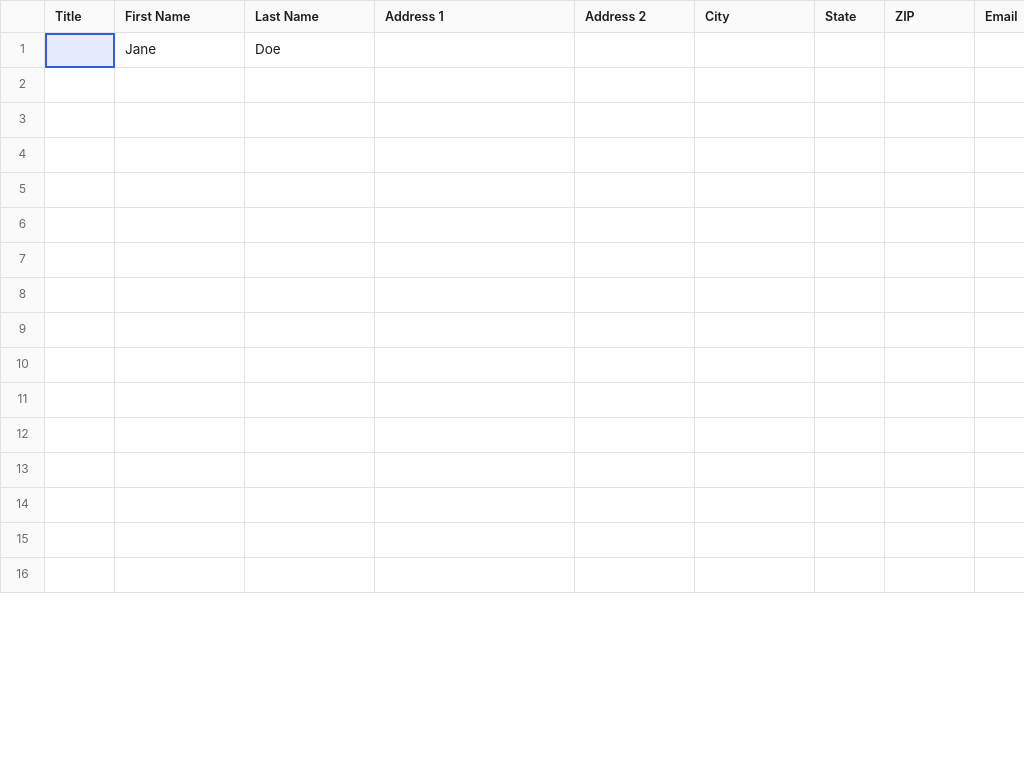
Test: row header: select row / open Contact View › editing a field in Contact View updates the spreadsheet immediately
Double-click the cell with class "row-header-cell" showing "1".
double_click(22, 50)  # box x1=0 y1=32 x2=44 y2=68
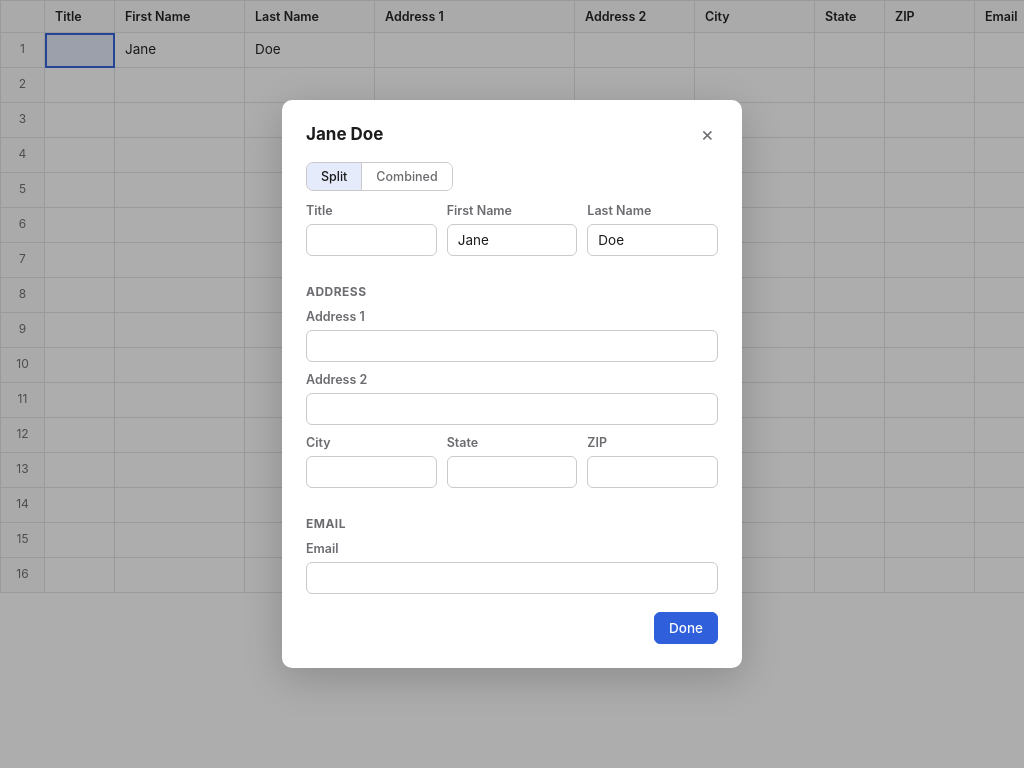
Replace the text in the field showing "Jane" with "Janet" at (512, 240), box x1=447 y1=224 x2=577 y2=256
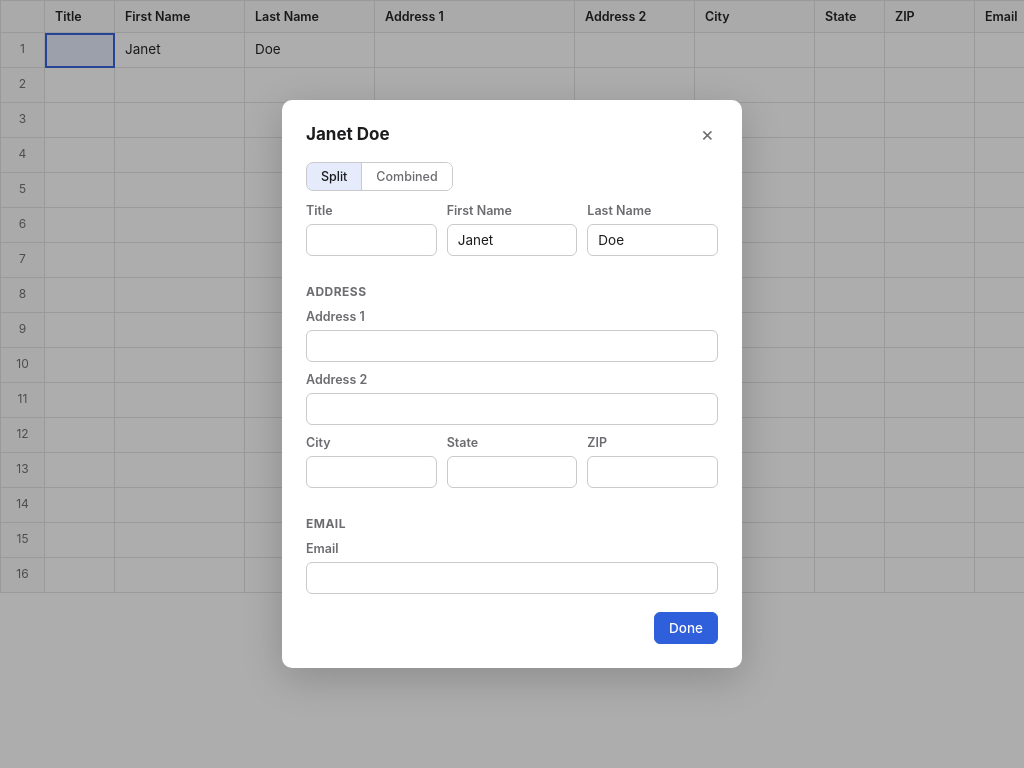
Expected: the text with class "cell-display" reads "Janet", x1=125 y1=41 x2=161 y2=57
Expected: the heading "Janet Doe" is shown, x1=306 y1=124 x2=390 y2=144
